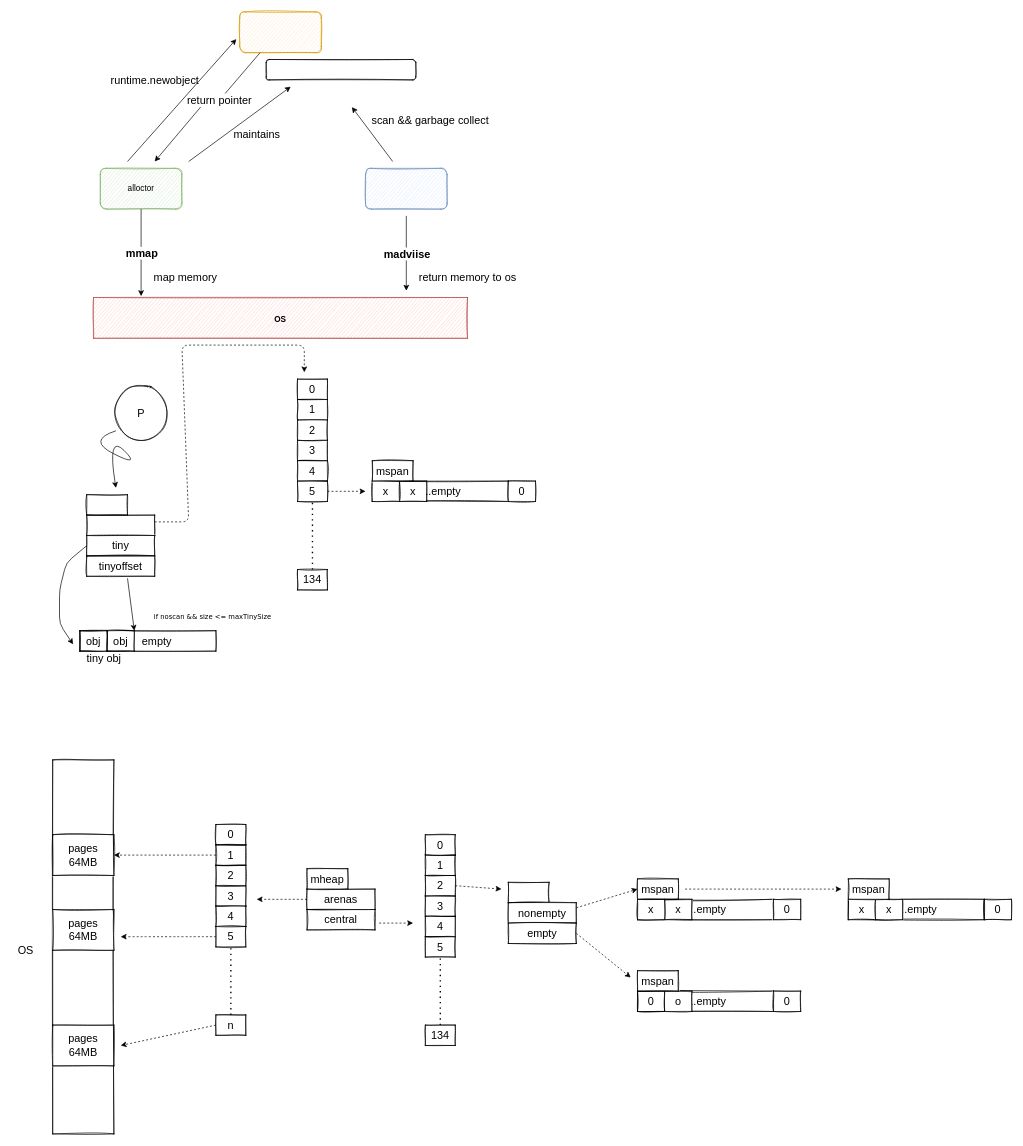
This 1023x1146 diagram has some shape labels left out. Here are the shapes that lost their labels. From the top down, the centre of each, then its label:
point 280,32: mutator
point 341,69: memery managemet structs
point 406,188: collector
point 107,504: mcache
point 120,525: alloc
point 528,892: mcentral
